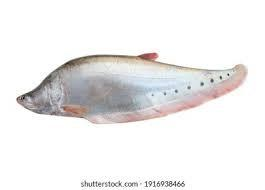Knifefish: (15, 53, 248, 125)
